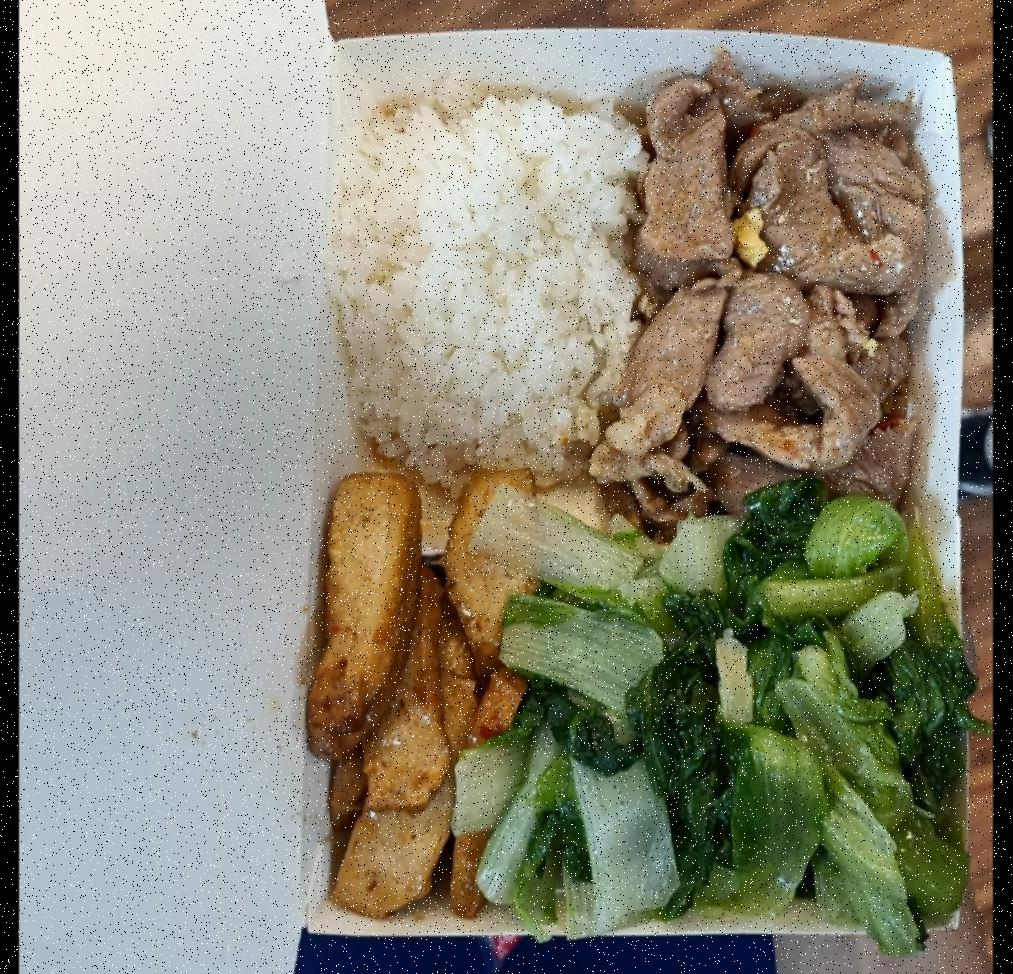box: (277, 4, 982, 970)
pork with scrambled eggs: (635, 58, 936, 530)
side dish: (318, 504, 524, 916), (740, 541, 954, 931), (532, 534, 741, 928)
white rice: (345, 88, 628, 472)
